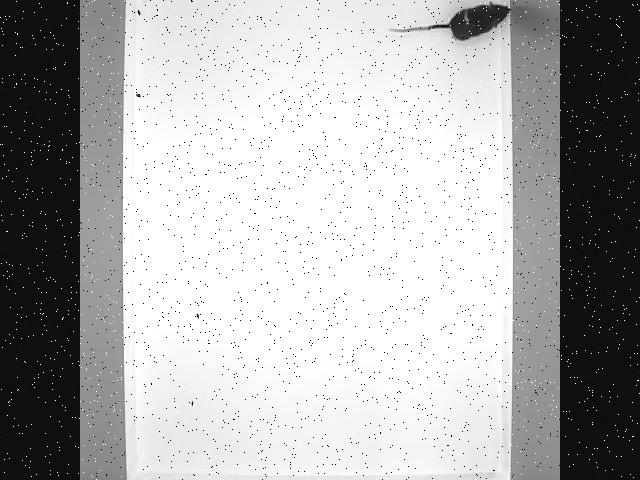Tikus: (387, 0, 513, 43)
